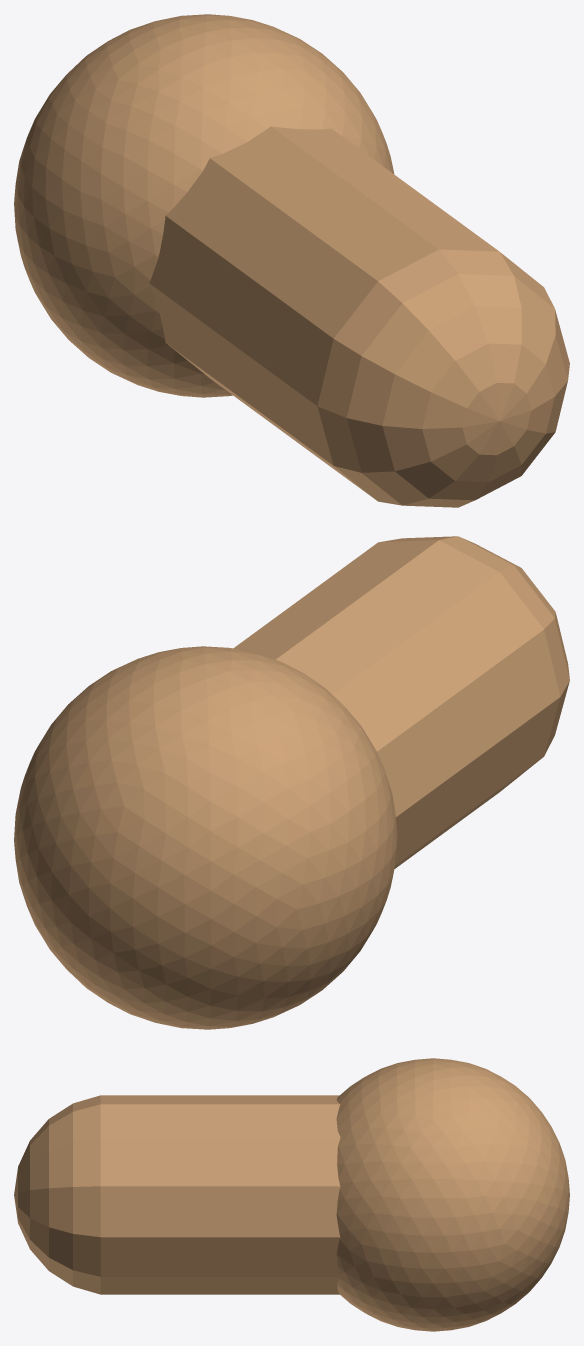
The picture shows the model from 3 angles, top to bottom: view 1: azimuth 30°, elevation 25°; view 2: azimuth 150°, elevation 25°; view 3: azimuth 270°, elevation 25°; orthographic projection. The views are drawn at different scales.
Visible parts, largest first — view 1: world; view 2: world; view 3: world.
Boxes of the visible parts, x1,y1,x2,y2 form: world: (14, 14, 569, 507); world: (14, 536, 569, 1029); world: (14, 1058, 569, 1331).
Size of the model in its own units: 0.092 by 0.092 by 0.187.
